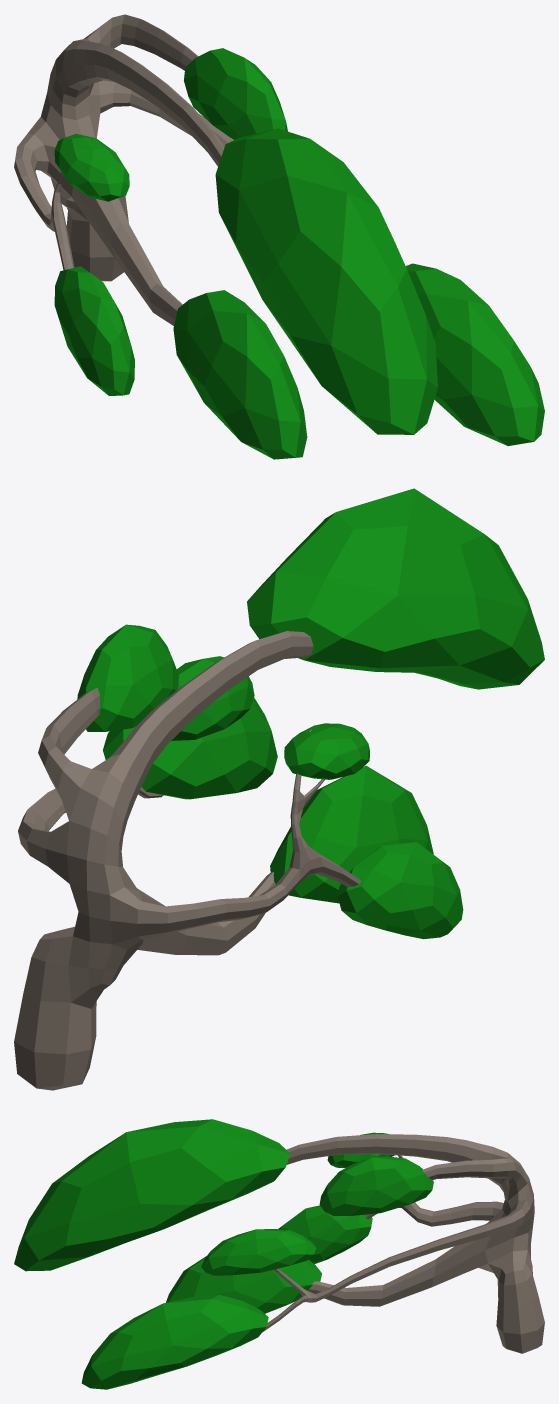
File: sabina.fbx
3 renders of one model, top to bottom at view 1: azimuth 30°, elevation 25°; view 2: azimuth 150°, elevation 25°; view 3: azimuth 270°, elevation 25°, orthographic. The views are drawn at different scales.
Parts seen in each view (by area): view 1: Icosphere.003, Cube, Icosphere.002, Icosphere, Icosphere.004, Icosphere.001, Icosphere.006; view 2: Cube, Icosphere.003, Icosphere.002, Icosphere.004, Icosphere, Icosphere.001, Icosphere.006, Icosphere.005; view 3: Icosphere.003, Cube, Icosphere, Icosphere.001, Icosphere.002, Icosphere.005, Icosphere.004, Icosphere.006.
Boxes of the visible parts, left/top/right/bottom form: Icosphere.003: left=215, top=128, right=437, bottom=434; Cube: left=14, top=14, right=233, bottom=325; Icosphere.002: left=173, top=290, right=307, bottom=459; Icosphere: left=405, top=263, right=544, bottom=445; Icosphere.004: left=54, top=266, right=134, bottom=395; Icosphere.001: left=184, top=48, right=287, bottom=139; Icosphere.006: left=54, top=133, right=129, bottom=201; Cube: left=14, top=631, right=360, bottom=1090; Icosphere.003: left=247, top=488, right=544, bottom=689; Icosphere.002: left=270, top=765, right=433, bottom=903; Icosphere.004: left=337, top=842, right=463, bottom=939; Icosphere: left=103, top=697, right=277, bottom=799; Icosphere.001: left=77, top=624, right=178, bottom=731; Icosphere.006: left=284, top=723, right=369, bottom=779; Icosphere.005: left=171, top=656, right=254, bottom=740; Icosphere.003: left=14, top=1119, right=290, bottom=1271; Cube: left=262, top=1134, right=544, bottom=1353; Icosphere: left=81, top=1294, right=268, bottom=1389; Icosphere.001: left=319, top=1156, right=433, bottom=1215; Icosphere.002: left=166, top=1256, right=321, bottom=1313; Icosphere.005: left=201, top=1229, right=316, bottom=1275; Icosphere.004: left=278, top=1205, right=372, bottom=1263; Icosphere.006: left=327, top=1132, right=394, bottom=1167.
Size of the model in its own units: 2877 by 2471 by 5303.
